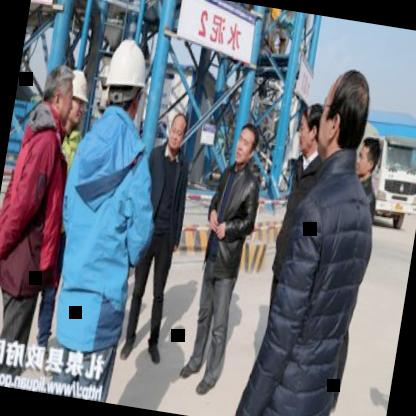head: (316, 61, 377, 169), (40, 60, 76, 124), (350, 128, 386, 184), (230, 117, 262, 168), (161, 106, 192, 157), (296, 104, 324, 158)
helmet: (96, 32, 152, 126), (60, 63, 95, 134)
